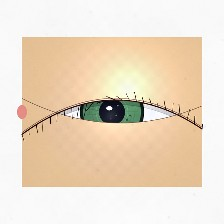pinguecula_lesion: (151, 90, 191, 122)
